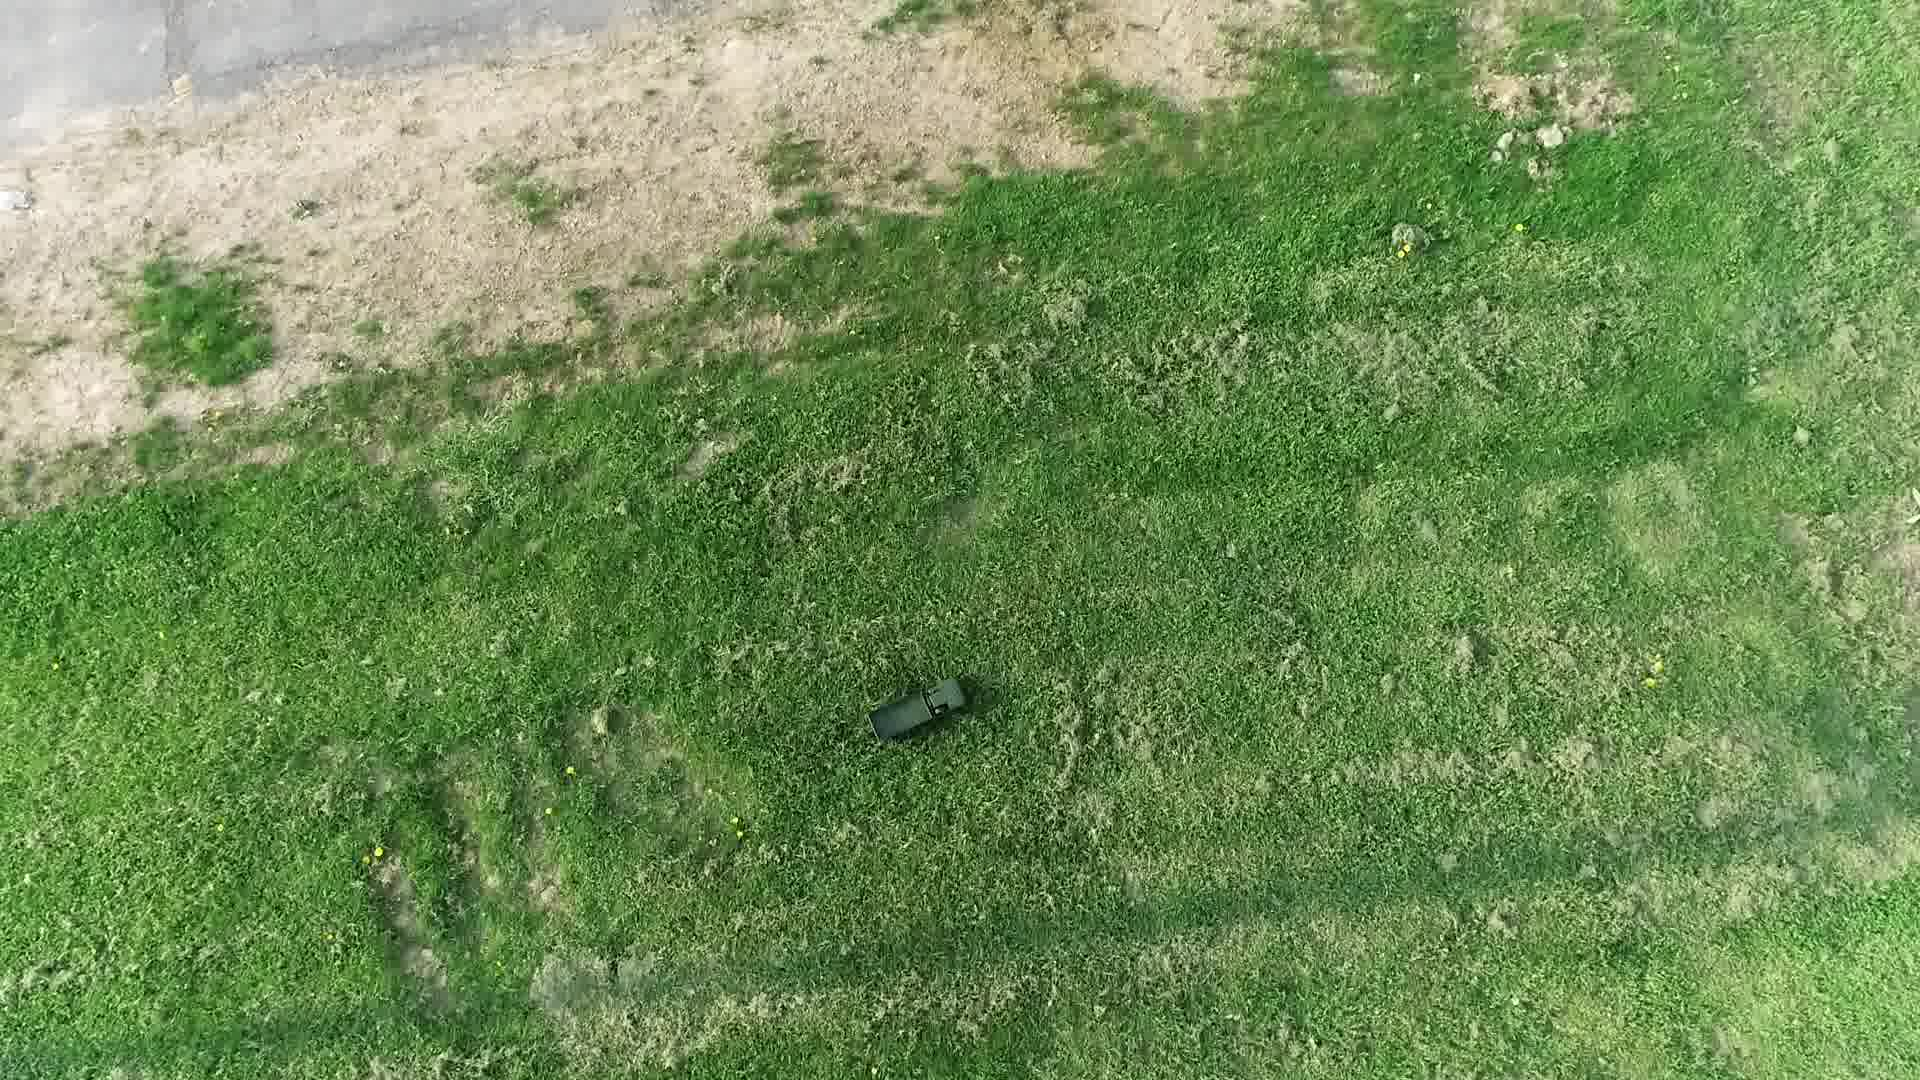transporter9: (858, 666, 973, 754)
